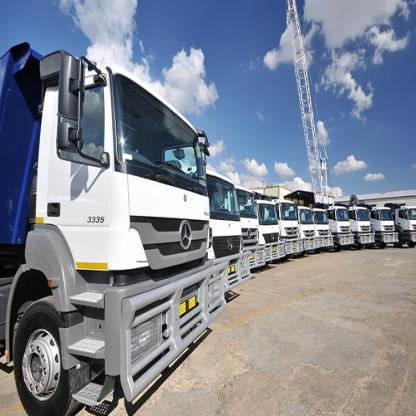dump_truck: (31, 45, 210, 399), (208, 158, 249, 294), (253, 188, 278, 266), (396, 195, 415, 248), (354, 200, 373, 252), (284, 193, 298, 260), (335, 199, 351, 254), (301, 201, 316, 258), (376, 202, 392, 246), (317, 204, 330, 252)
